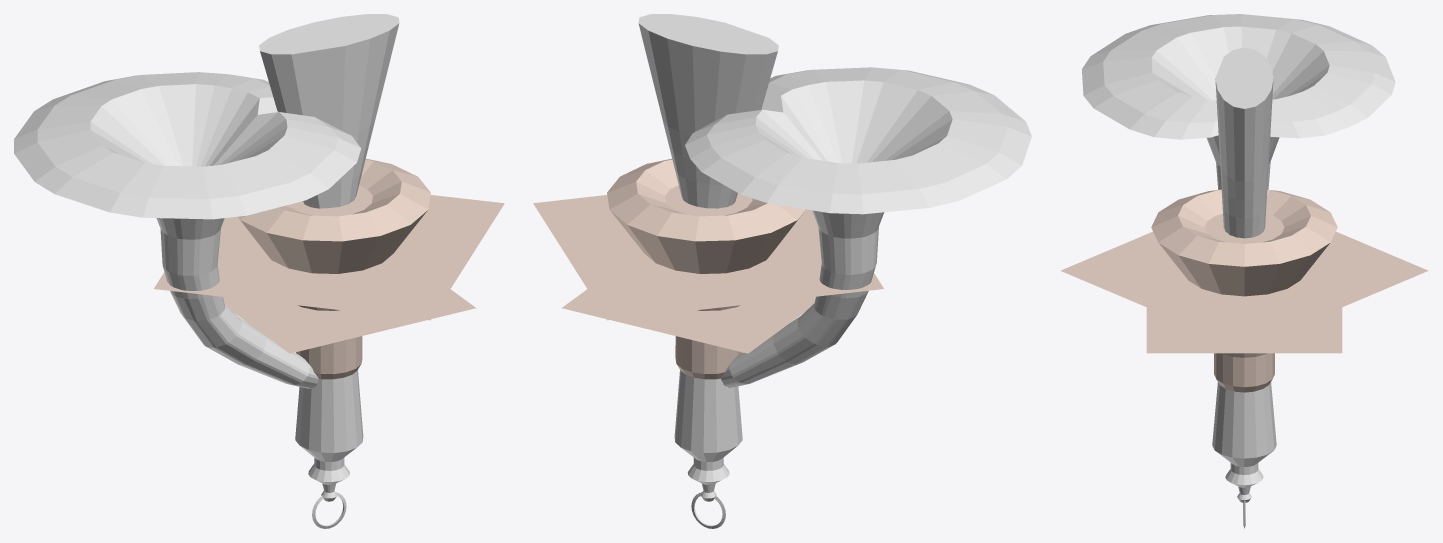
File: JackOLanturn(3).fbx
The picture shows the model from 3 angles, left to right: view 1: azimuth 30°, elevation 25°; view 2: azimuth 150°, elevation 25°; view 3: azimuth 270°, elevation 25°; orthographic projection. The views are drawn at different scales.
Parts seen in each view (by area): view 1: JackOLanturn, Devil Tooth, Aspergillum; view 2: JackOLanturn, Devil Tooth, Aspergillum; view 3: Devil Tooth, JackOLanturn, Aspergillum.
Part boxes in pixels (left/top/right/bottom): JackOLanturn: left=14, top=72, right=361, bottom=388; Devil Tooth: left=154, top=158, right=504, bottom=379; Aspergillum: left=259, top=14, right=399, bottom=528; JackOLanturn: left=685, top=67, right=1031, bottom=387; Devil Tooth: left=533, top=158, right=883, bottom=379; Aspergillum: left=638, top=14, right=778, bottom=528; Devil Tooth: left=1060, top=189, right=1428, bottom=392; JackOLanturn: left=1082, top=14, right=1395, bottom=189; Aspergillum: left=1212, top=47, right=1276, bottom=528.
Size of the model in its own units: 531 by 531 by 395.
